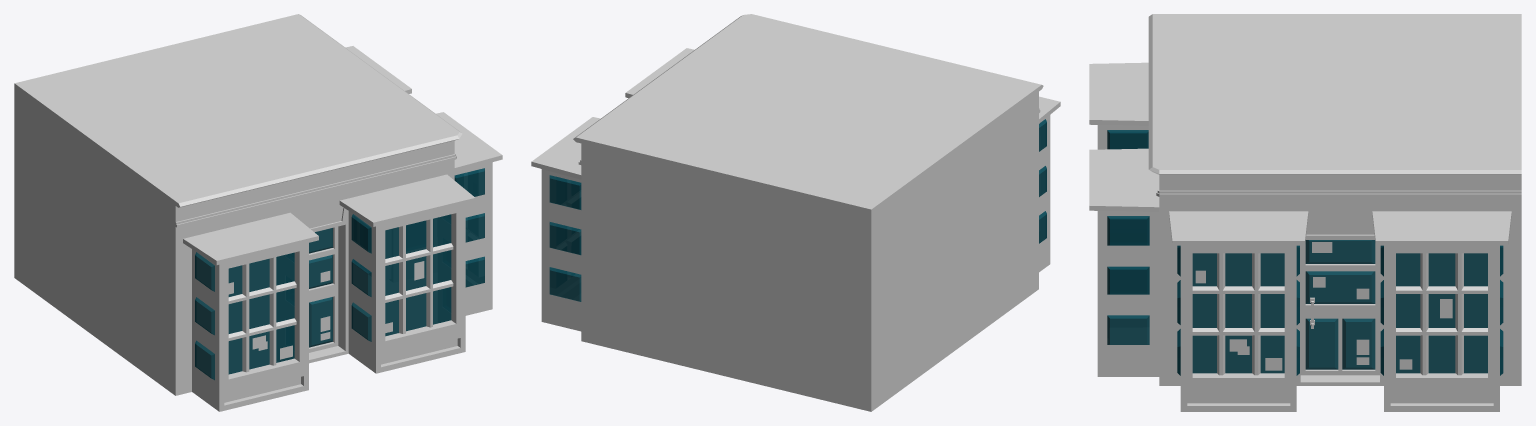
File: building_shop_corner_03.fbx
The picture shows the model from 3 angles, left to right: view 1: azimuth 30°, elevation 25°; view 2: azimuth 150°, elevation 25°; view 3: azimuth 270°, elevation 25°; orthographic projection. The views are drawn at different scales.
Visible parts, largest first — view 1: building_shop_corner_03, building_shop_corner_03_glass; view 2: building_shop_corner_03, building_shop_corner_03_glass; view 3: building_shop_corner_03, building_shop_corner_03_glass.
Part boxes in pixels (bbox=[...]): building_shop_corner_03: bbox=[14, 14, 502, 411]; building_shop_corner_03_glass: bbox=[195, 168, 484, 380]; building_shop_corner_03: bbox=[531, 14, 1060, 411]; building_shop_corner_03_glass: bbox=[549, 119, 1046, 301]; building_shop_corner_03: bbox=[1089, 14, 1521, 411]; building_shop_corner_03_glass: bbox=[1107, 130, 1503, 375].
Bounding box in the file's own units: 716 × 400 × 716.
